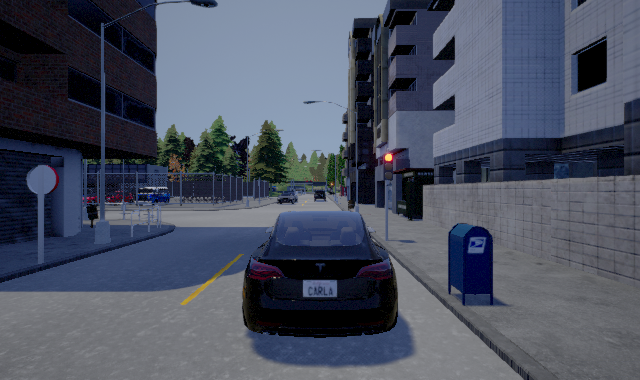traffic_light: (383, 148, 393, 186)
traffic_sign: (26, 165, 57, 193)
vehicle: (242, 211, 398, 338), (138, 187, 172, 203), (278, 189, 297, 202), (314, 188, 326, 203)
